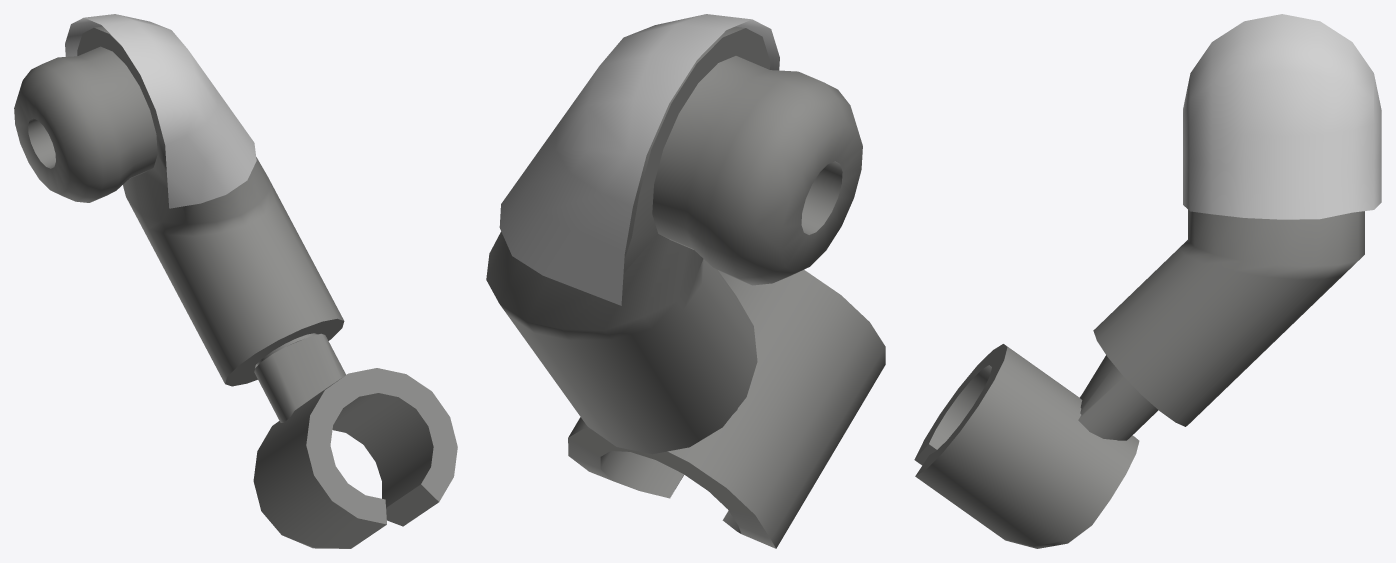
Rendered from lHand.obj.
3 views of the same model, side by side, from view 1: azimuth 30°, elevation 25°; view 2: azimuth 150°, elevation 25°; view 3: azimuth 270°, elevation 25° (orthographic). The views are drawn at different scales.
Visible parts, largest first — view 1: lHand1:pasted__pasted__lhand group; view 2: lHand1:pasted__pasted__lhand group; view 3: lHand1:pasted__pasted__lhand group.
Part boxes in pixels (x1=…): lHand1:pasted__pasted__lhand group: x1=14, y1=14, x2=457, y2=548; lHand1:pasted__pasted__lhand group: x1=486, y1=14, x2=885, y2=548; lHand1:pasted__pasted__lhand group: x1=914, y1=14, x2=1381, y2=548.
Bounding box in the file's own units: 1.42 × 2.28 × 2.1.
